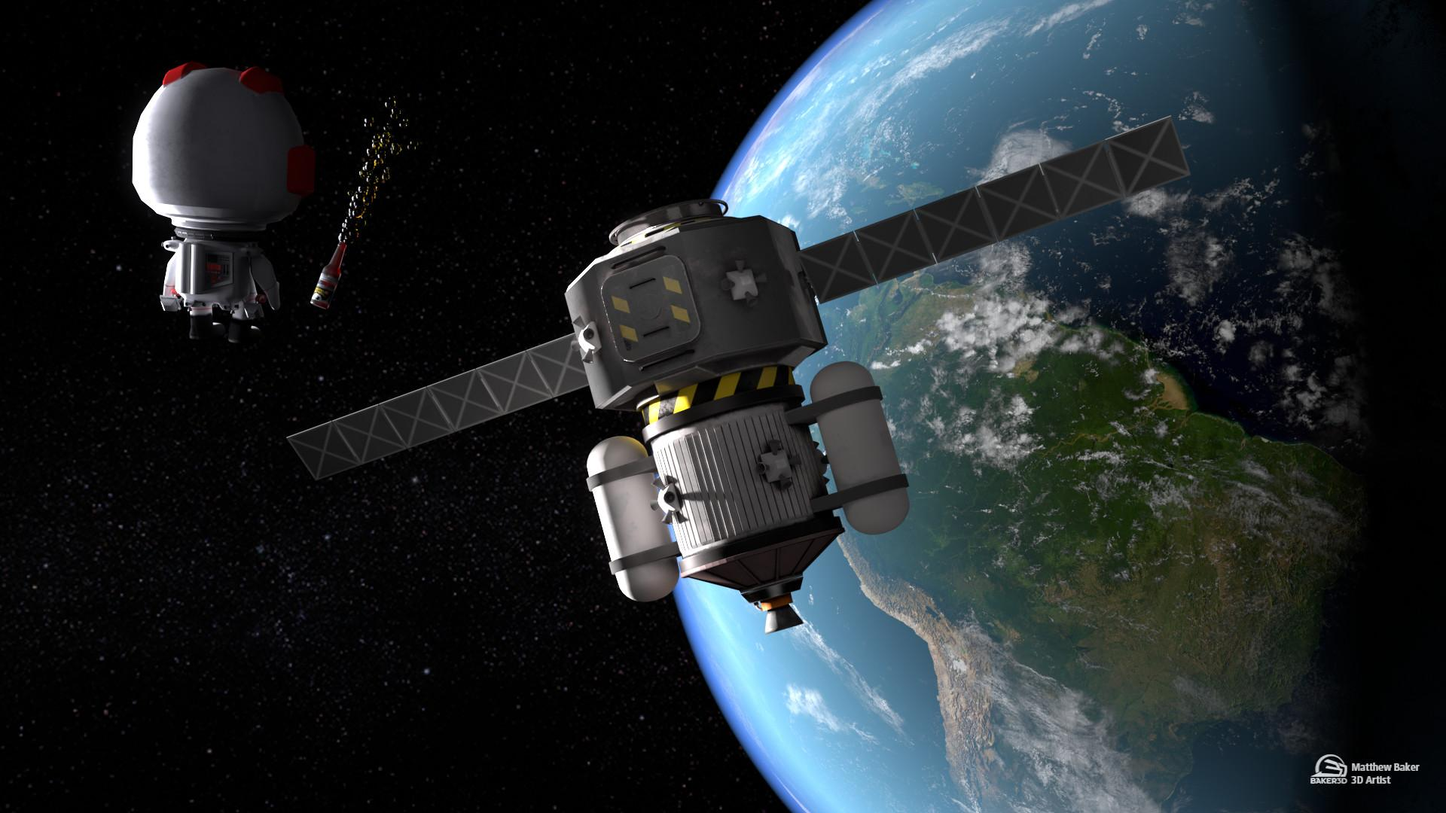body: (552, 208, 905, 619)
solar: (795, 112, 1196, 306), (285, 329, 592, 488)
thruster: (751, 600, 805, 638), (743, 288, 759, 309), (752, 270, 772, 286), (777, 472, 792, 492), (768, 437, 782, 457), (719, 277, 737, 292), (571, 313, 586, 330), (581, 348, 596, 365), (789, 452, 805, 467), (754, 461, 770, 476), (651, 475, 666, 491), (733, 257, 747, 274), (661, 508, 674, 526), (662, 489, 677, 504), (581, 327, 595, 342), (648, 497, 660, 513), (570, 339, 582, 352)
